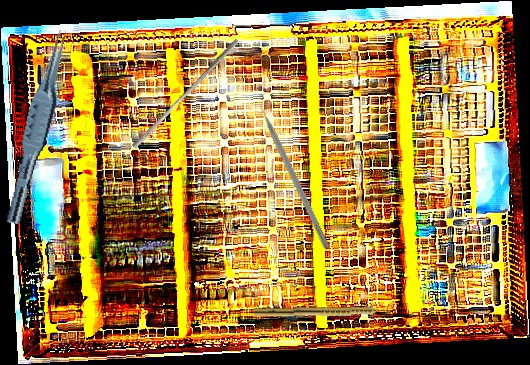Chopper: (253, 91, 338, 250)
Handpiece: (252, 305, 393, 320)
Pusher: (131, 34, 240, 153)
Tissue Forceps: (5, 26, 72, 228)
